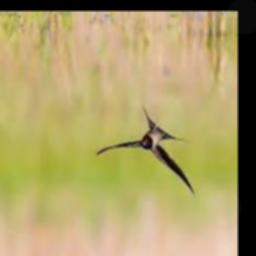Swallow: (95, 109, 194, 195)
